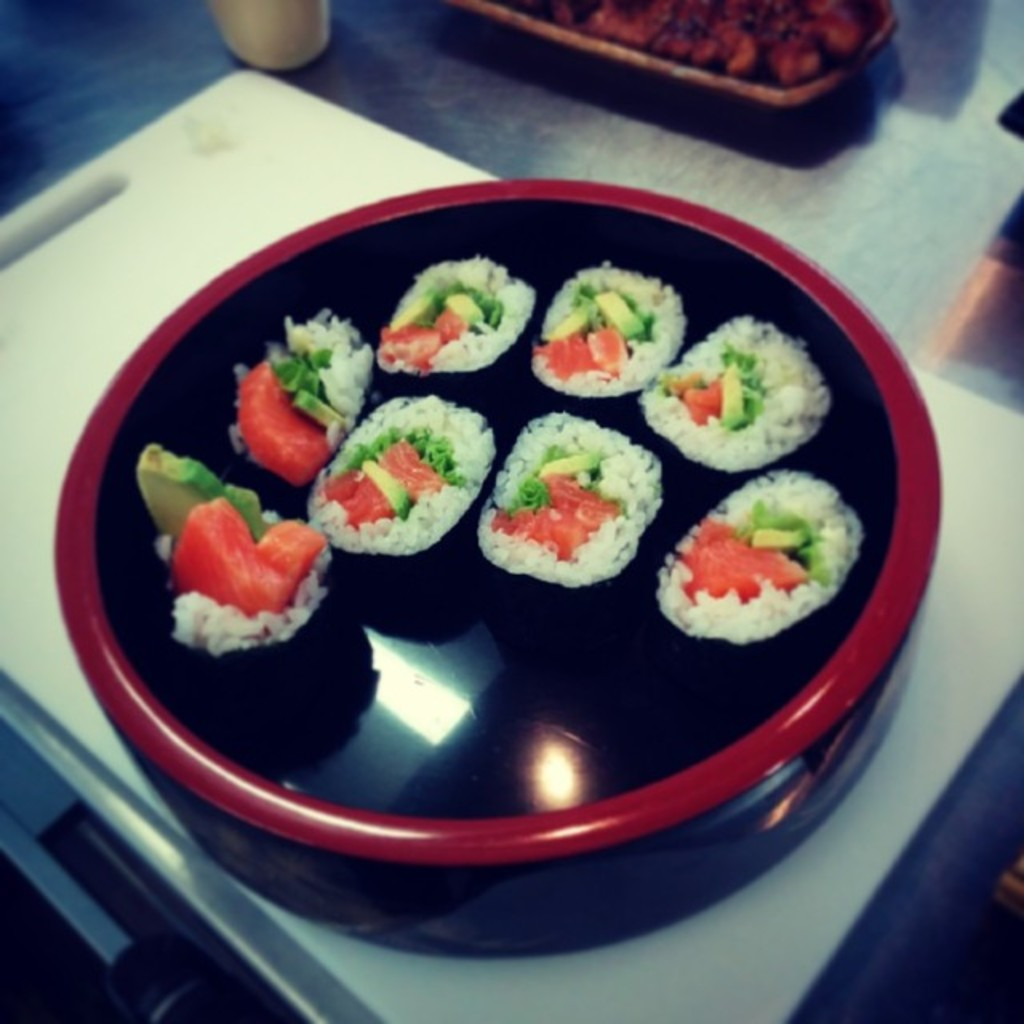sushi: (138, 250, 869, 726), (488, 427, 664, 582)
